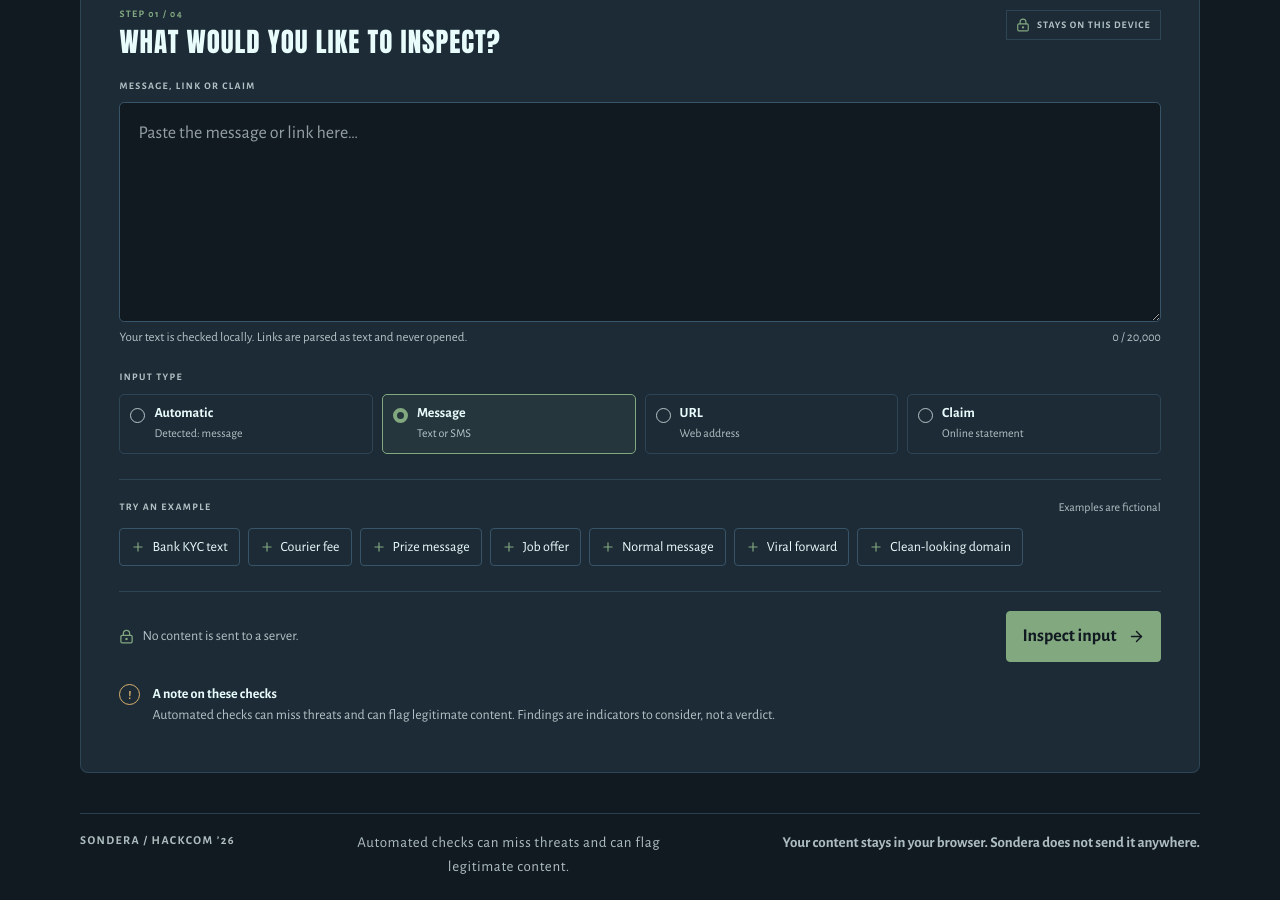
Test case: Sondera Submit and Inspect › announces an empty-input error and points the user to the required field
The image size is (1280, 900).
(page scrolled)
Click the button "Inspect input" at (1084, 637), box [1006,611,1161,662]
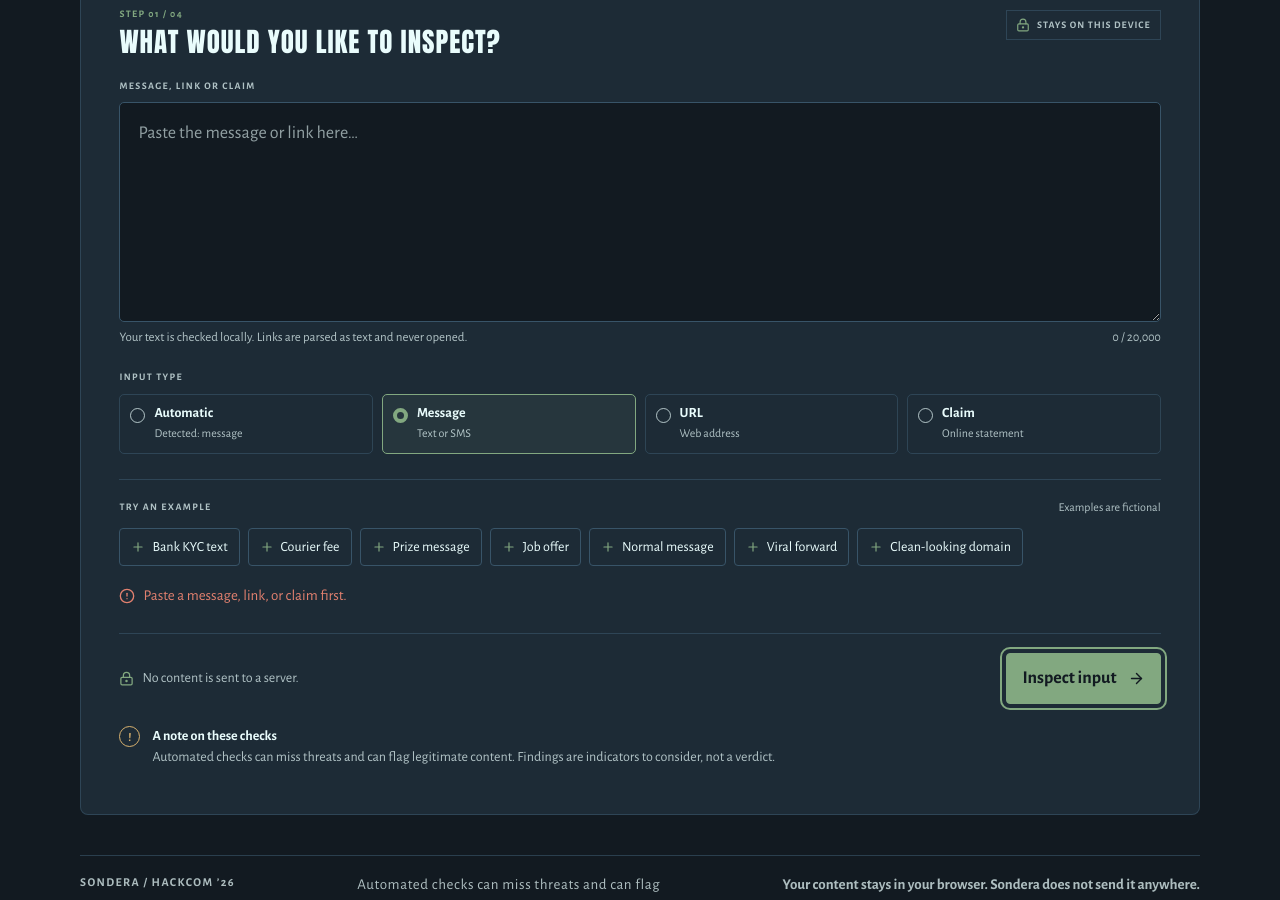
Expected: the text box labelled "MESSAGE, LINK OR CLAIM" is shown, [119,102,1161,322]
Expected: the message reads "Paste a message, link, or claim first.", [143,588,347,603]
